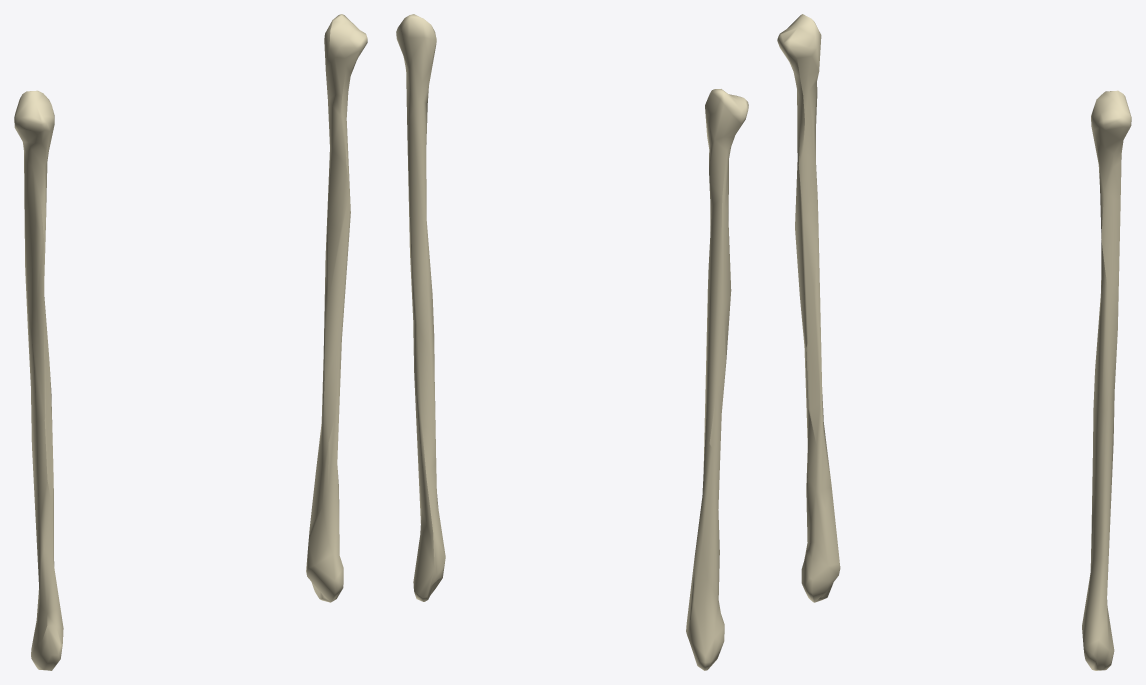
The model's file is fibula.glb.
3 renders of one model, left to right at view 1: azimuth 30°, elevation 25°; view 2: azimuth 150°, elevation 25°; view 3: azimuth 330°, elevation 25°, orthographic.
Parts seen in each view (by area): view 1: Fibula; view 2: Fibula; view 3: Fibula.
Boxes of the visible parts, <box> form: Fibula: <box>14,14,367,670</box>; Fibula: <box>396,14,748,670</box>; Fibula: <box>777,14,1131,670</box>.
Size of the model in its own units: 0.2403 by 0.3843 by 0.0295.
